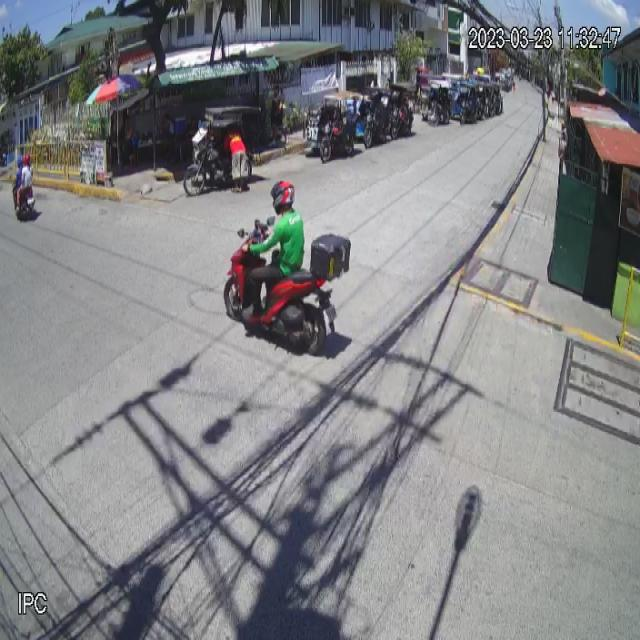Motorcycle: (222, 215, 352, 358)
